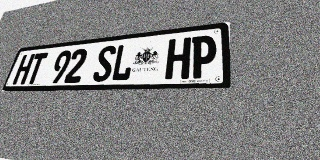2: (64, 48, 89, 83)
9: (48, 50, 73, 83)
H: (165, 37, 191, 80), (12, 54, 35, 85)
L: (110, 43, 136, 81)
P: (189, 34, 216, 79)
S: (92, 45, 117, 82)
T: (24, 52, 48, 84)
